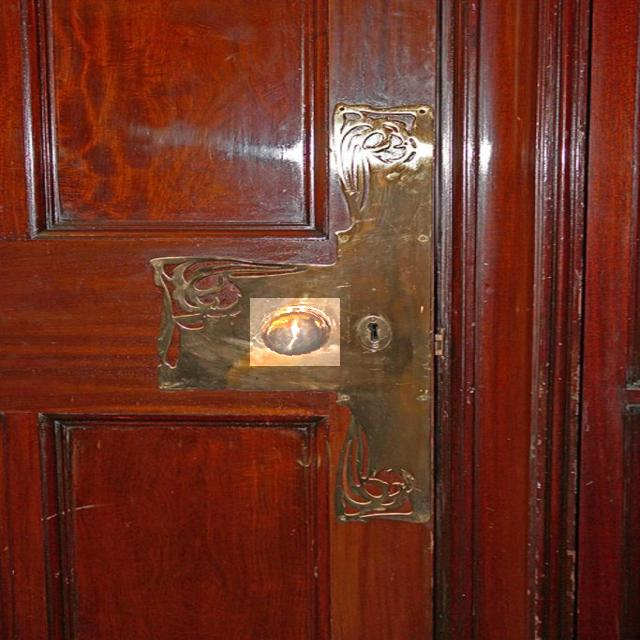doorhandle: (250, 298, 340, 366)
